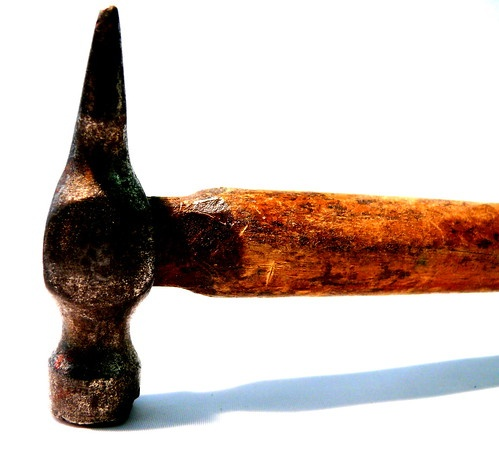hammer: (43, 5, 499, 426)
